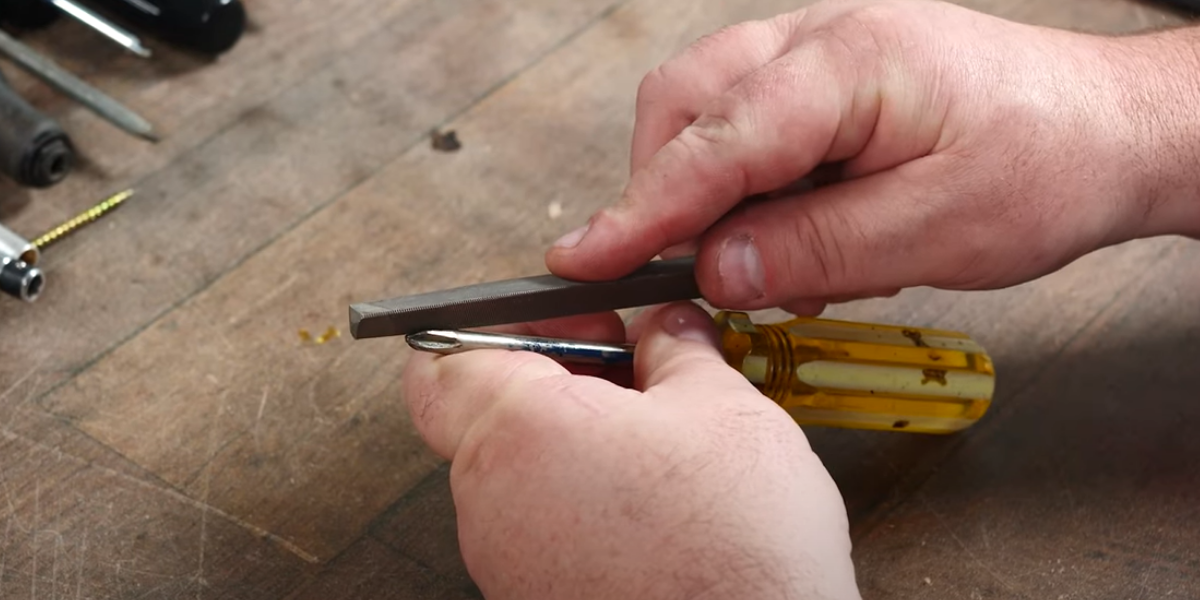screwdriver: (412, 294, 993, 433)
